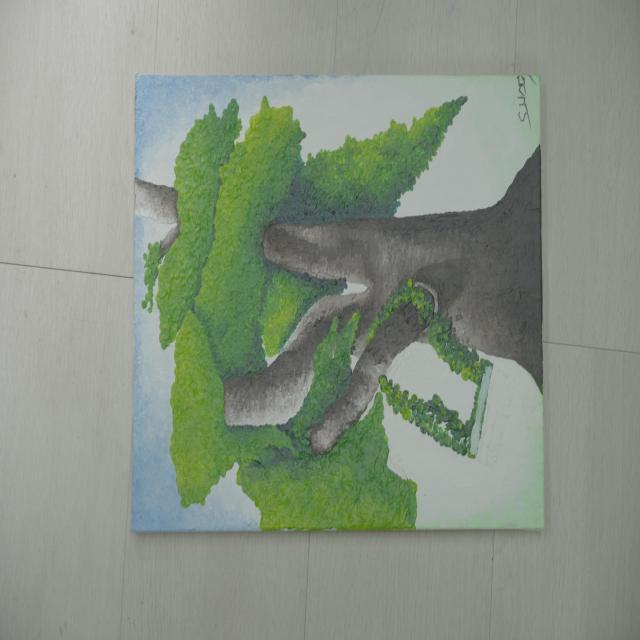painting: (132, 75, 543, 531)
